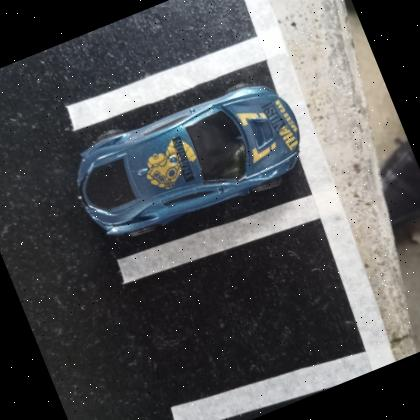Car: (77, 86, 301, 237)
